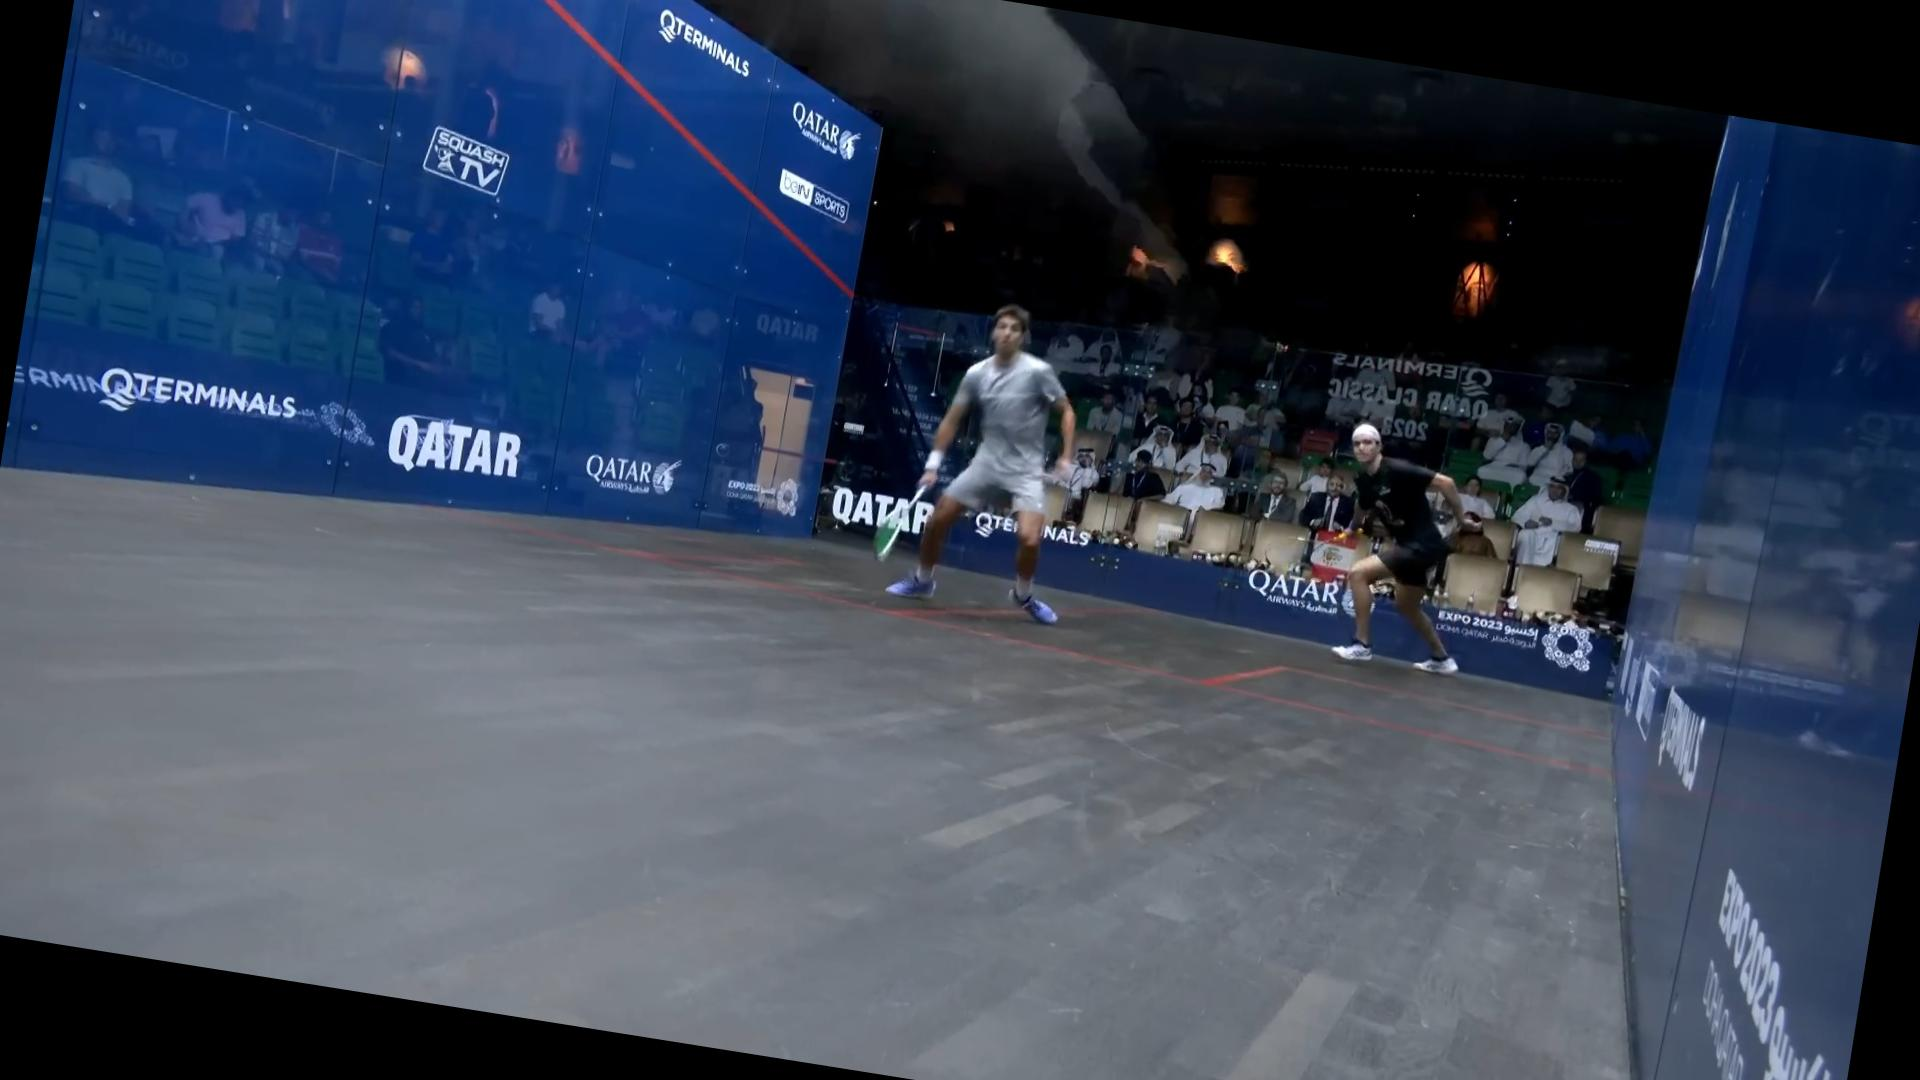Racket: (872, 479, 928, 571)
